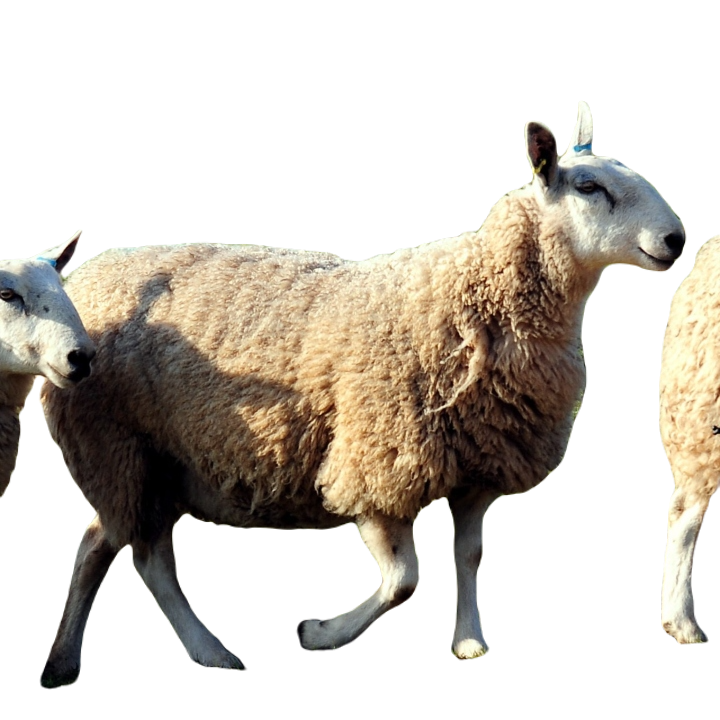Sheep: (38, 100, 687, 694)
